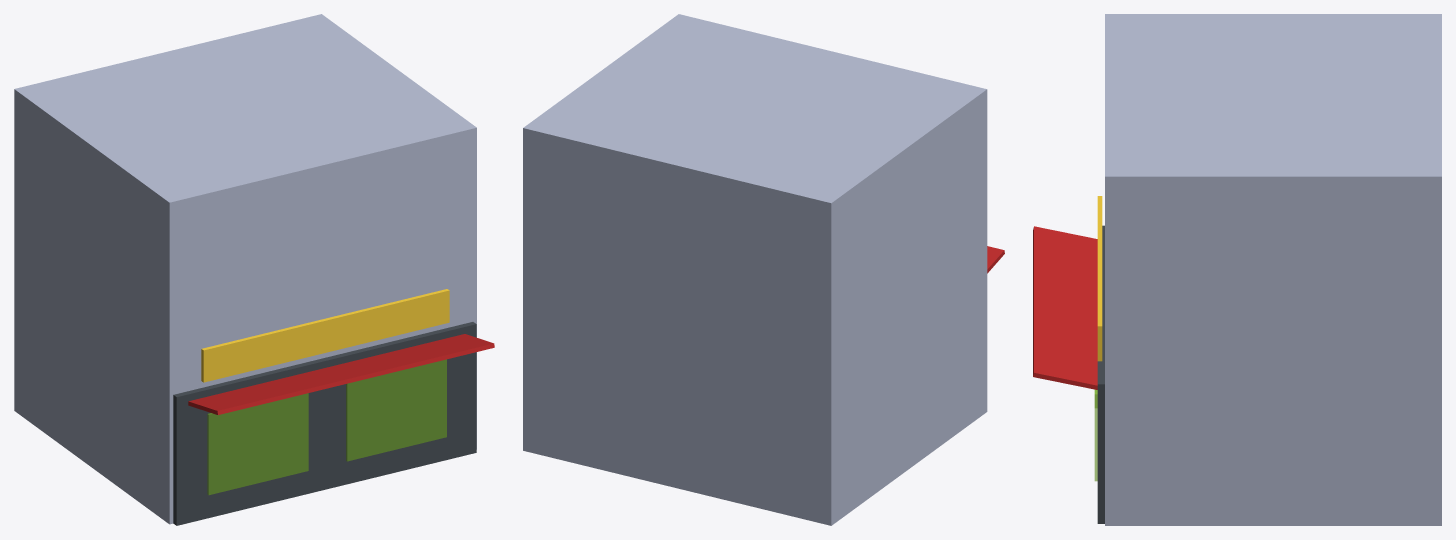
File: commercial_block.glb
3 renders of one model, left to right at view 1: azimuth 30°, elevation 25°; view 2: azimuth 150°, elevation 25°; view 3: azimuth 270°, elevation 25°, orthographic. The views are drawn at different scales.
Parts seen in each view (by area): view 1: CommercialShop; view 2: CommercialShop; view 3: CommercialShop.
Boxes of the visible parts, box(x1,y1,x2,y2) form: CommercialShop: box(14, 14, 494, 525); CommercialShop: box(523, 14, 1004, 525); CommercialShop: box(1033, 14, 1441, 525).
Size of the model in its own units: 8 by 8 by 8.49.
